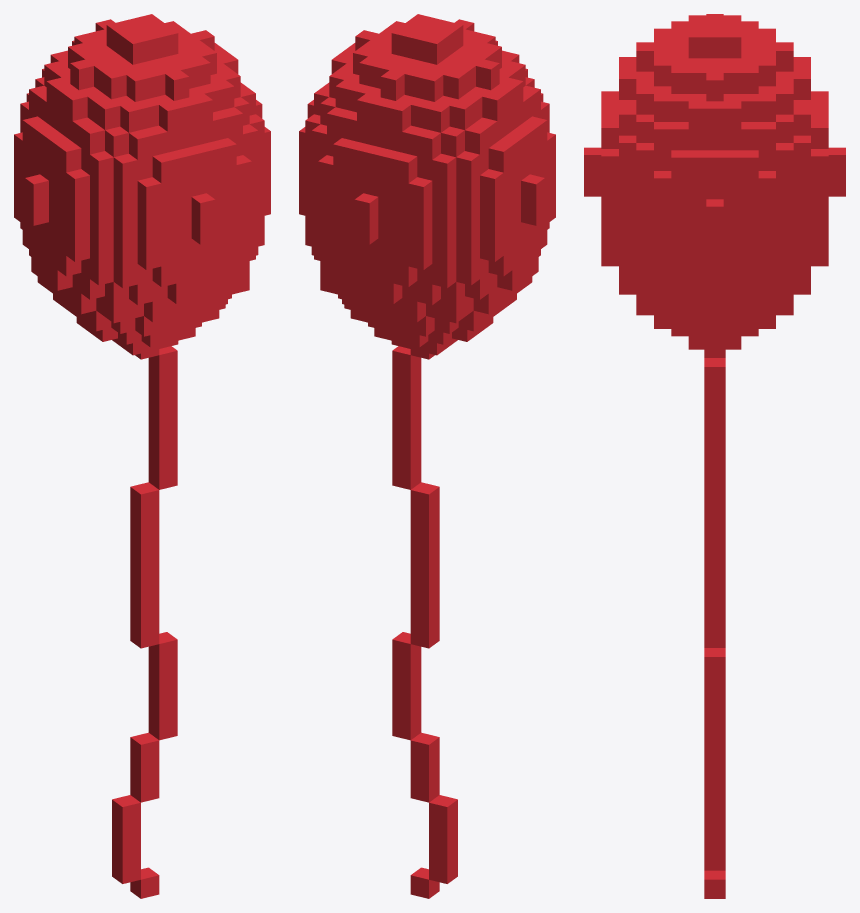
File: BalloonFix.fbx
3 renders of one model, left to right at view 1: azimuth 30°, elevation 25°; view 2: azimuth 150°, elevation 25°; view 3: azimuth 270°, elevation 25°, orthographic.
Visible parts, largest first — view 1: Sphere.015; view 2: Sphere.015; view 3: Sphere.015.
Part boxes in pixels (x1,y1,x2,y2): Sphere.015: (14,14,270,898); Sphere.015: (299,14,555,898); Sphere.015: (584,14,845,898).
Bounding box in the file's own units: 73.06 × 267 × 73.06.
